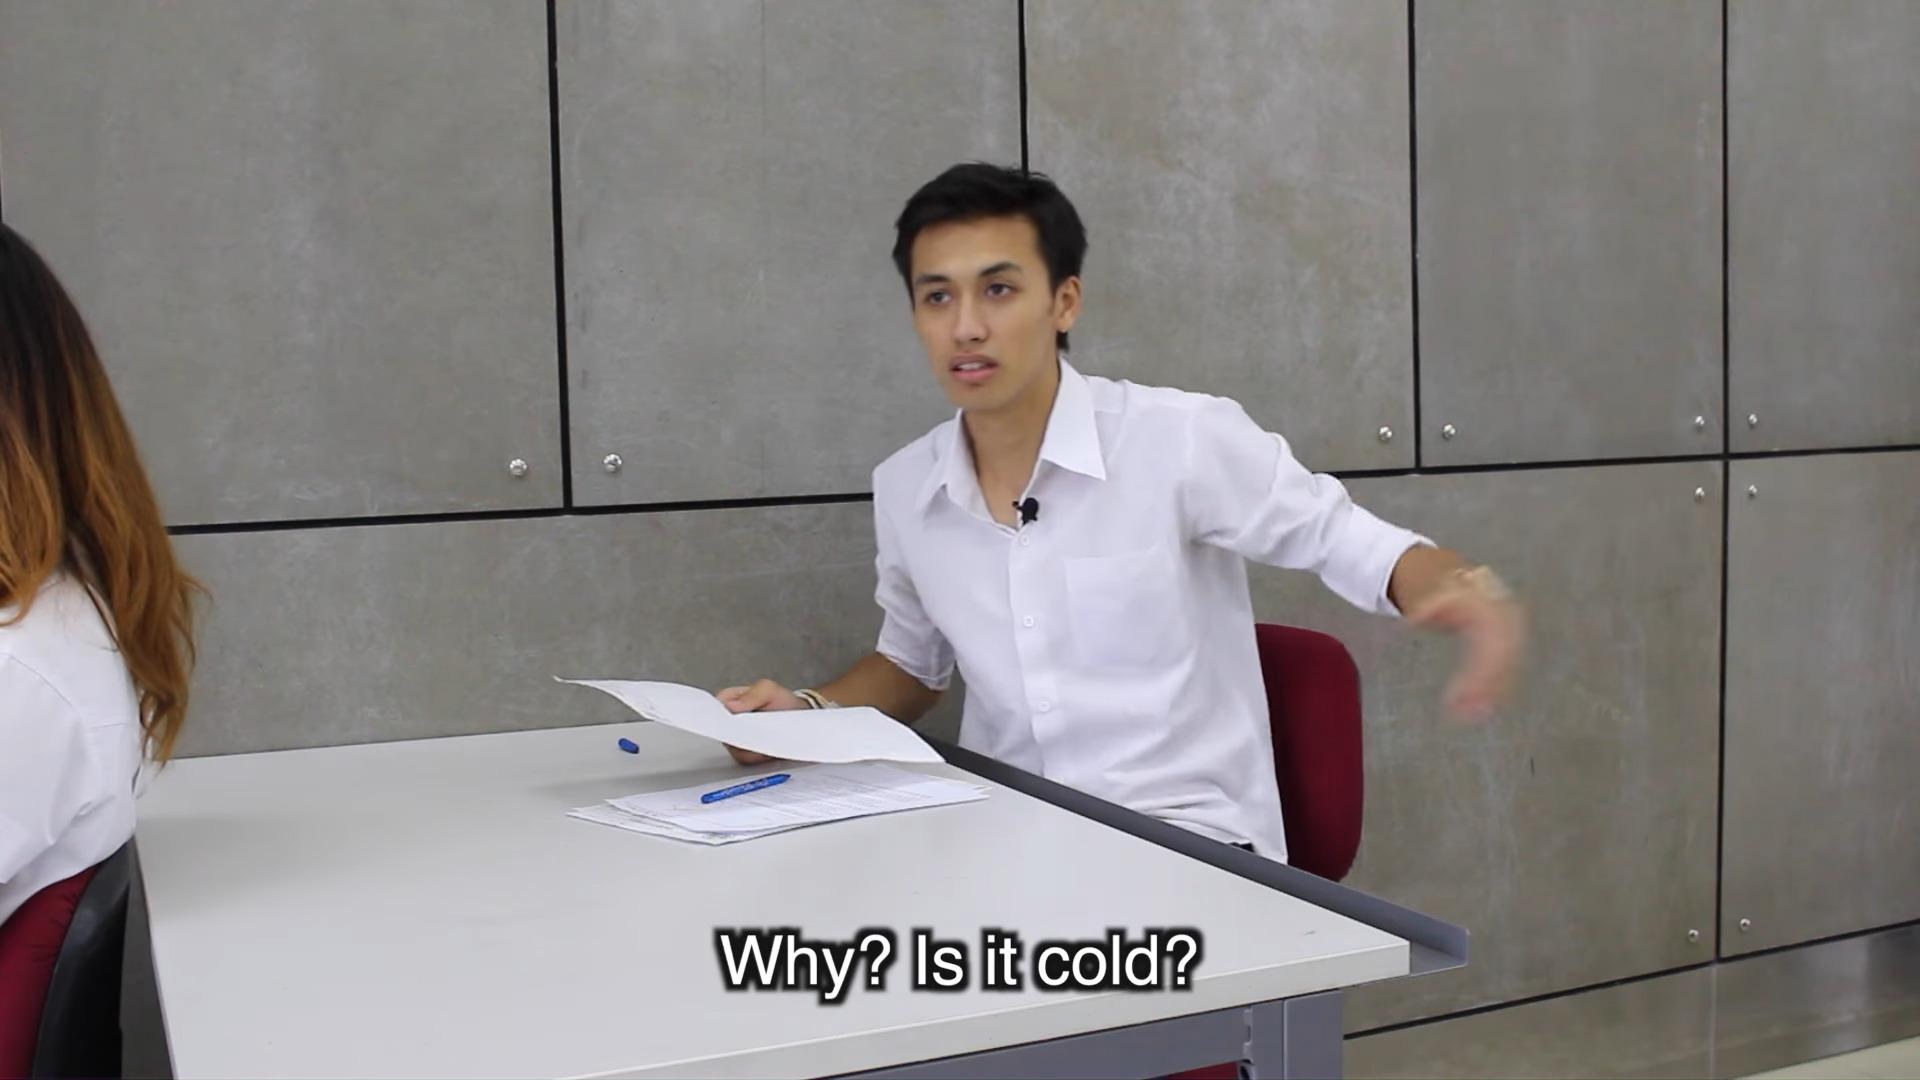cheating: (530, 113, 1563, 893)
